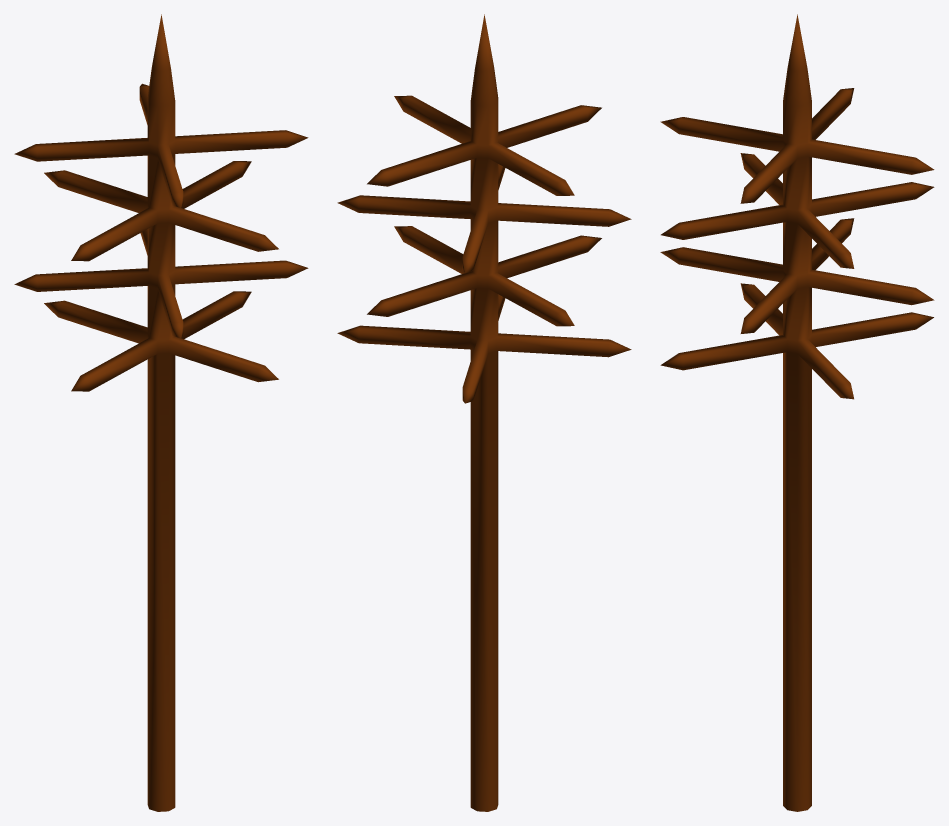
File: stickSource.fbx
3 renders of one model, left to right at view 1: azimuth 30°, elevation 25°; view 2: azimuth 150°, elevation 25°; view 3: azimuth 270°, elevation 25°, orthographic.
Parts seen in each view (by area): view 1: Sticks; view 2: Sticks; view 3: Sticks.
Boxes of the visible parts, x1,y1,x2,y2 form: Sticks: (14,14,308,811); Sticks: (337,14,631,811); Sticks: (660,14,934,811).
Bounding box in the file's own units: 4.77 × 15.19 × 4.77.
